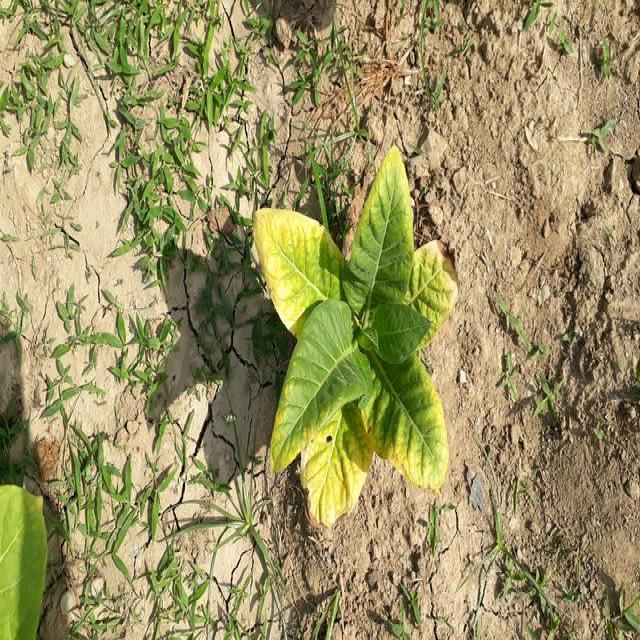crop: (254, 143, 456, 522)
